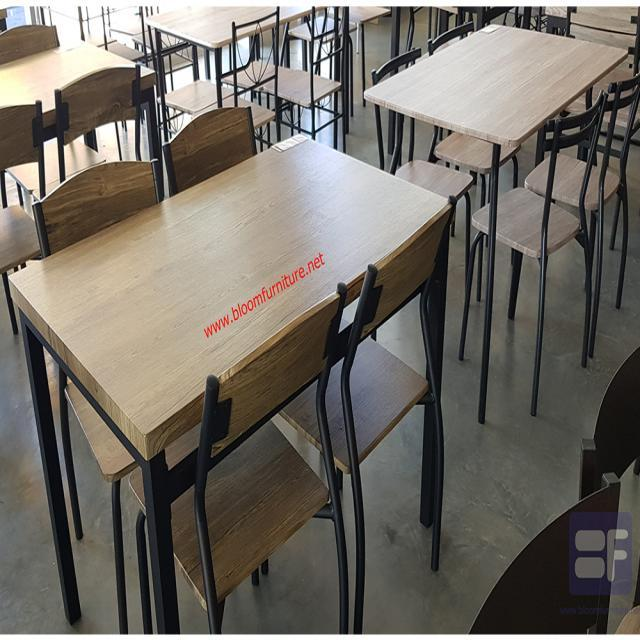table: (9, 146, 454, 426), (355, 20, 629, 146)
